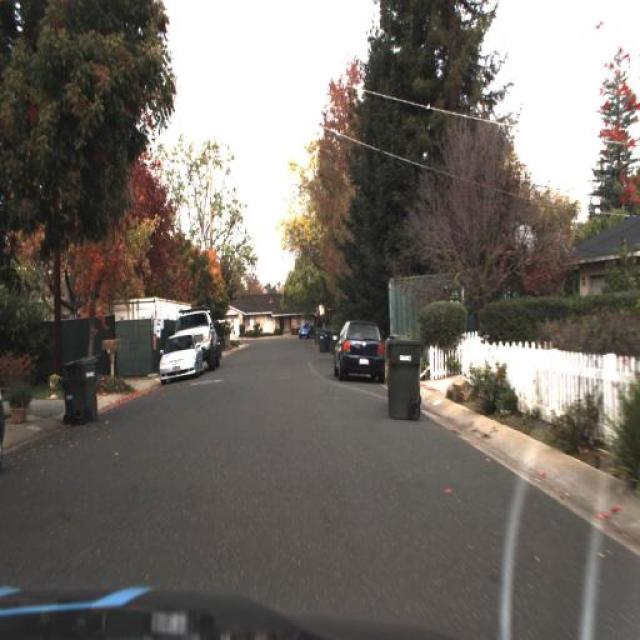car: (330, 316, 390, 388), (154, 326, 206, 386), (174, 303, 220, 366), (176, 305, 219, 341), (298, 321, 316, 339)
